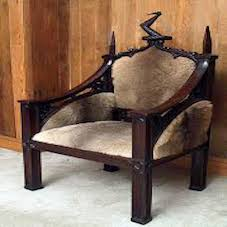chair: (11, 24, 218, 218)
